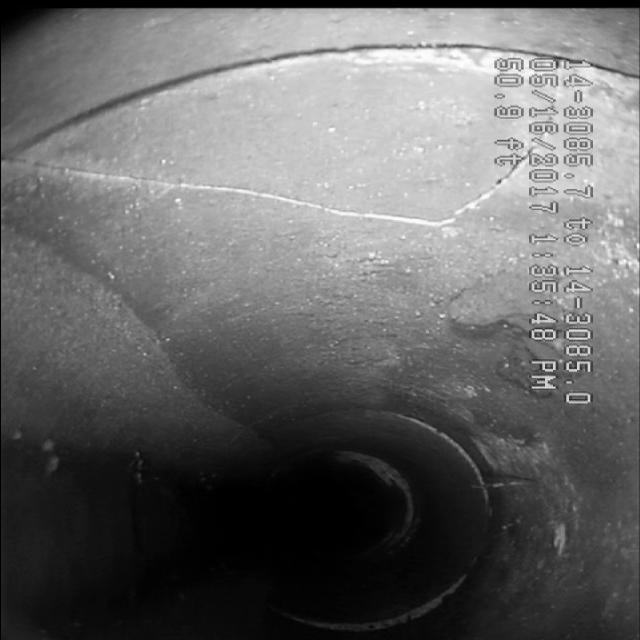Crack: (49, 168, 480, 252)
